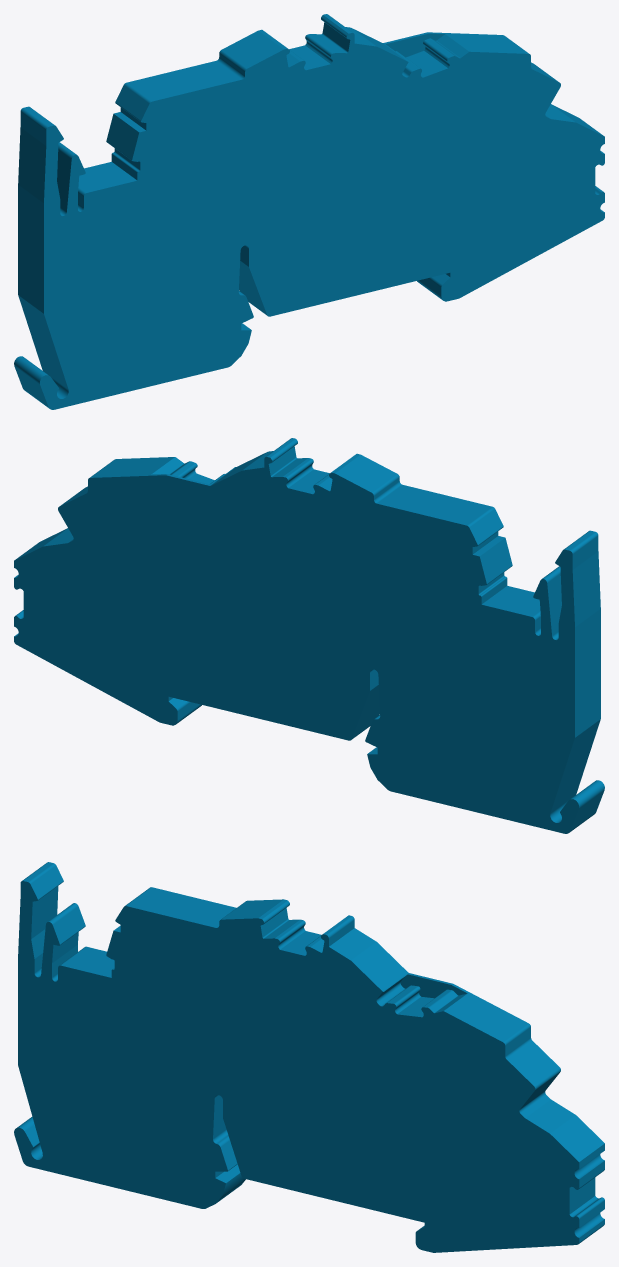
File: Wago.2009-305.glb
3 renders of one model, top to bottom at view 1: azimuth 30°, elevation 25°; view 2: azimuth 150°, elevation 25°; view 3: azimuth 330°, elevation 25°, orthographic.
Visible parts, largest first — view 1: 2009-305_HI; view 2: 2009-305_HI; view 3: 2009-305_HI.
Part boxes in pixels (bbox=[...]): 2009-305_HI: bbox=[14, 14, 604, 409]; 2009-305_HI: bbox=[14, 438, 604, 833]; 2009-305_HI: bbox=[14, 862, 604, 1252].
Bounding box in the file's own units: 94.84 × 48.8 × 7.5.
